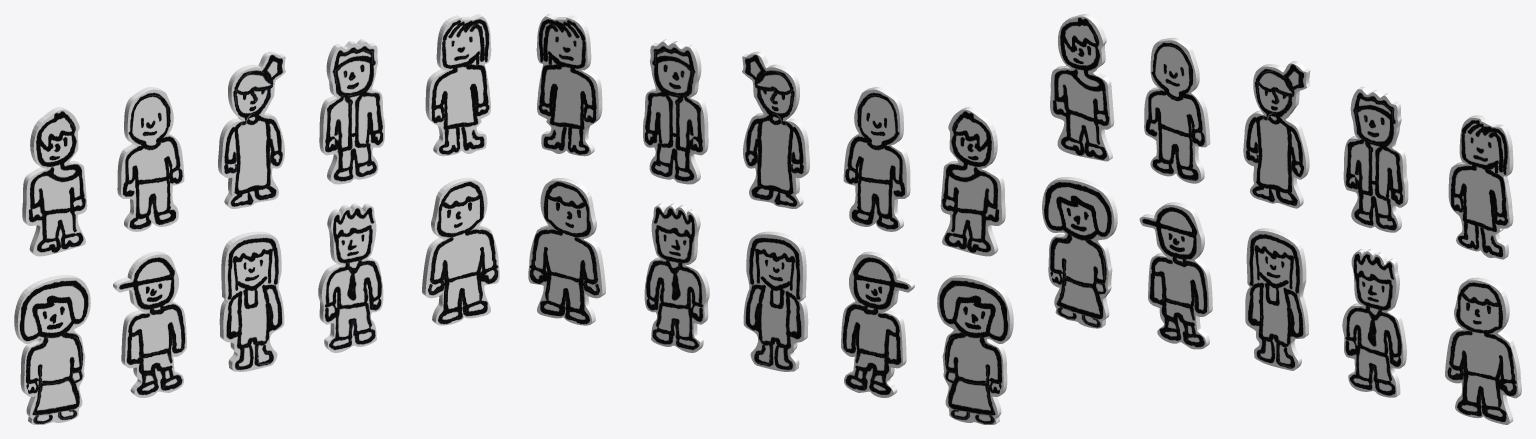
The model's file is Characters.glb.
3 views of the same model, side by side, from view 1: azimuth 30°, elevation 25°; view 2: azimuth 150°, elevation 25°; view 3: azimuth 330°, elevation 25° (orthographic).
Parts seen in each view (by area): view 1: Alice, You, Geraldine, Caroline, Benjamin, Hector, Isabella, David, Emily, Francis; view 2: Alice, You, Geraldine, Caroline, Benjamin, Hector, Isabella, David, Emily, Francis; view 3: Alice, You, Geraldine, Caroline, Benjamin, Hector, Isabella, David, Francis, Emily.
Part boxes in pixels (box(x1,y1,x2,y2)): Alice: box(14, 275, 90, 424); You: box(422, 178, 499, 325); Geraldine: box(218, 51, 285, 208); Caroline: box(219, 231, 284, 371); Benjamin: box(113, 251, 186, 397); Hector: box(319, 39, 384, 184); Isabella: box(425, 14, 491, 156); David: box(318, 203, 383, 352); Emily: box(22, 107, 87, 256); Francis: box(117, 87, 184, 231); Alice: box(937, 275, 1013, 424); You: box(528, 178, 605, 325); Geraldine: box(742, 51, 809, 208); Caroline: box(743, 231, 808, 371); Benjamin: box(841, 251, 914, 397); Hector: box(643, 39, 708, 184); Isabella: box(536, 14, 602, 156); David: box(644, 203, 709, 352); Emily: box(940, 107, 1005, 256); Francis: box(843, 87, 910, 231); Alice: box(1042, 177, 1117, 328); You: box(1445, 277, 1521, 424); Geraldine: box(1243, 61, 1310, 208); Caroline: box(1245, 228, 1308, 370); Benjamin: box(1139, 202, 1212, 349); Hector: box(1343, 86, 1408, 232); Isabella: box(1448, 115, 1513, 259); David: box(1342, 249, 1406, 397); Francis: box(1144, 37, 1210, 183); Emily: box(1050, 14, 1114, 161).
Bounding box in the file's own units: 3.83 × 2.41 × 0.05.
1 material, 1 textured.
